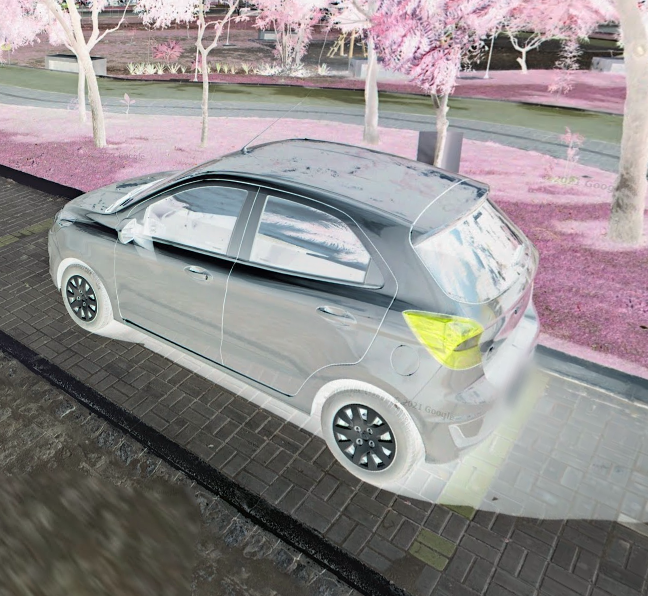car: (43, 103, 544, 487)
